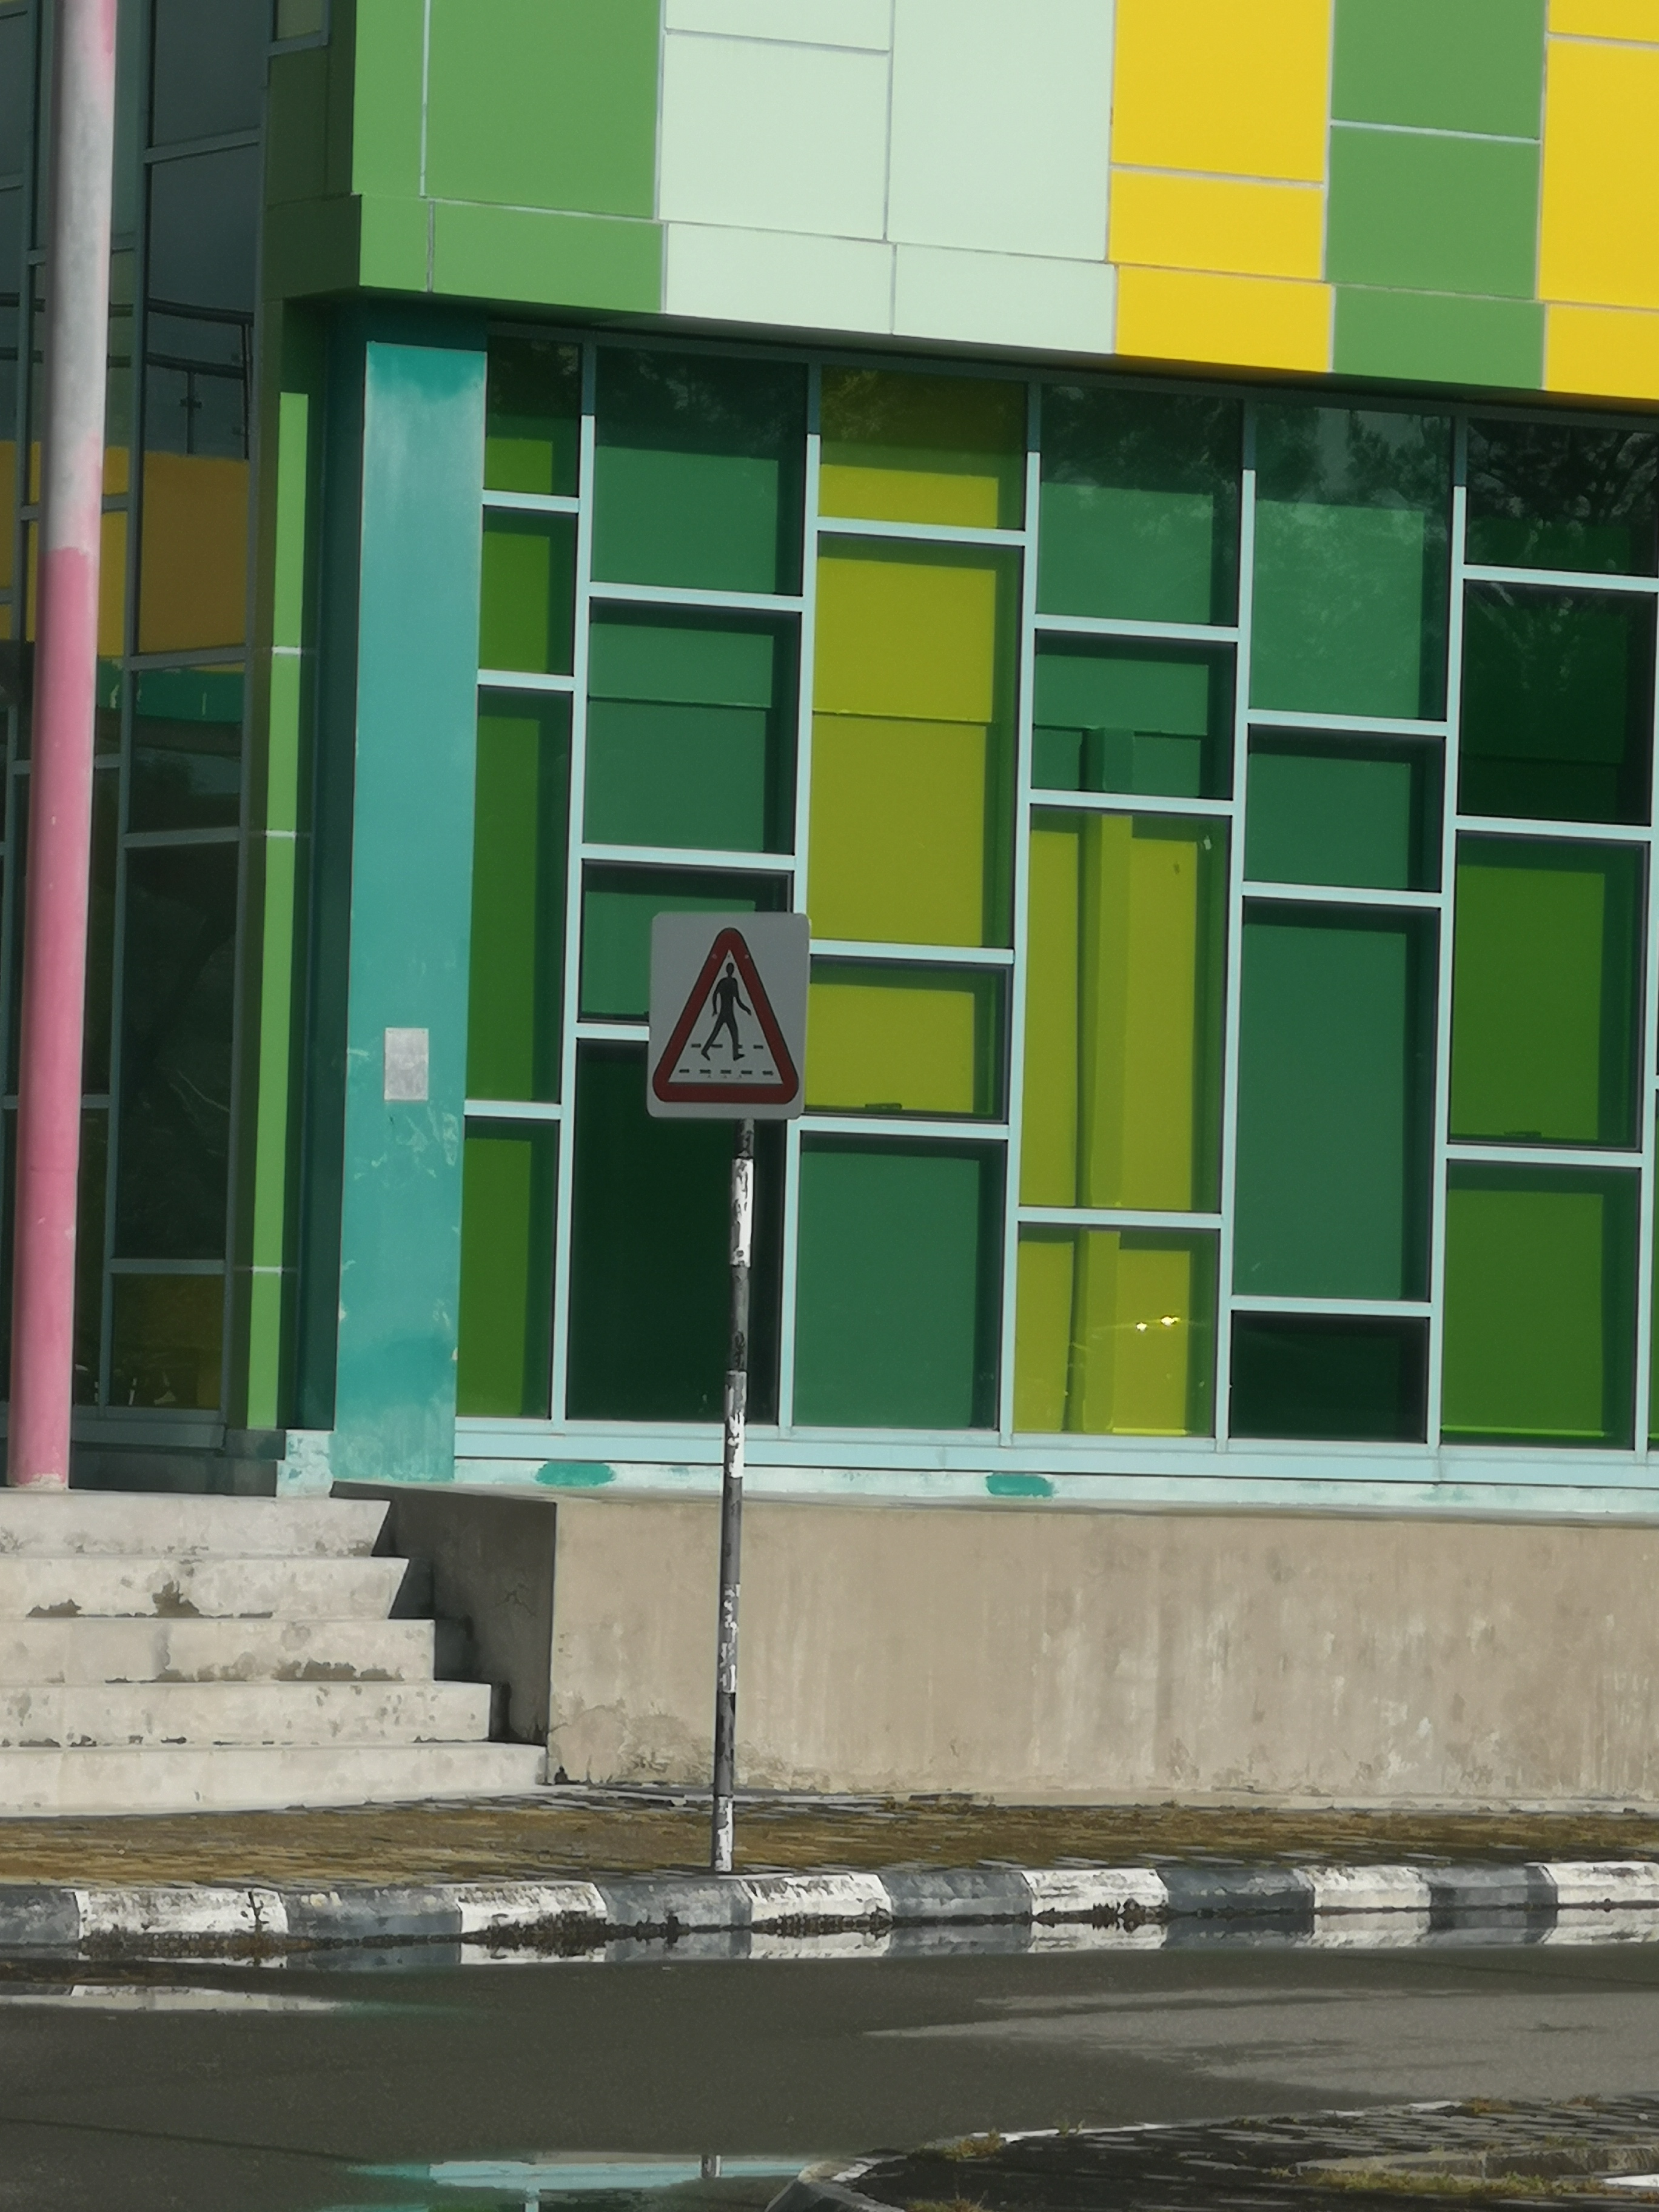pedestrian crossing: (641, 913, 809, 1130)
